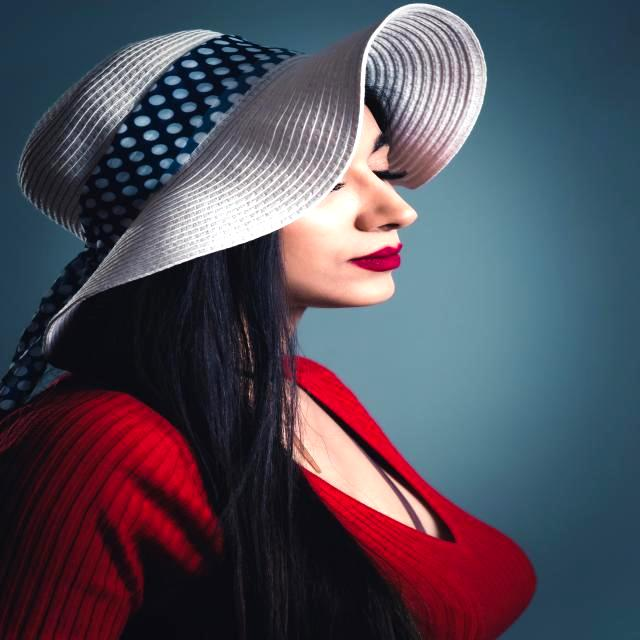no_hard_hat: (19, 5, 486, 305)
person: (0, 0, 545, 640)
